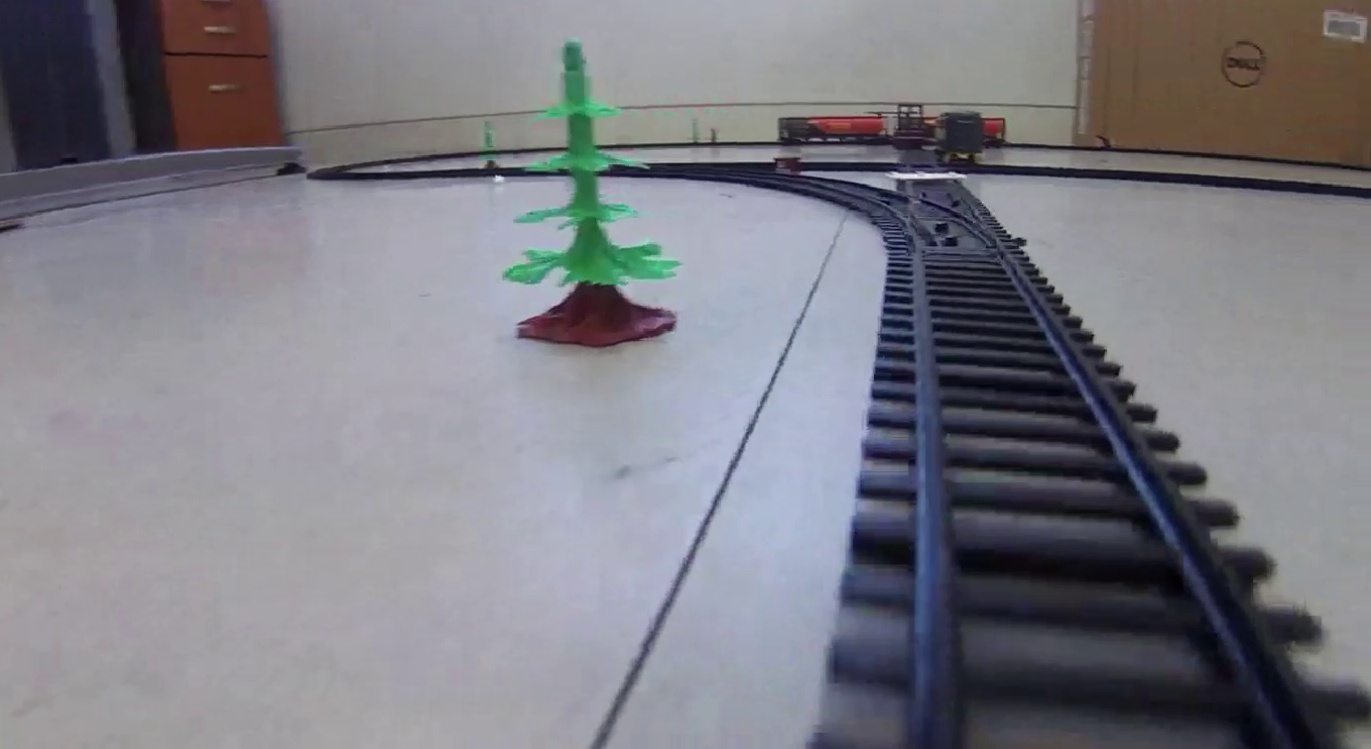tree: (503, 41, 682, 351)
